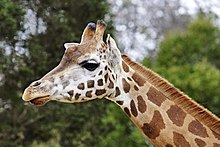Jirafa: (18, 17, 198, 136)
